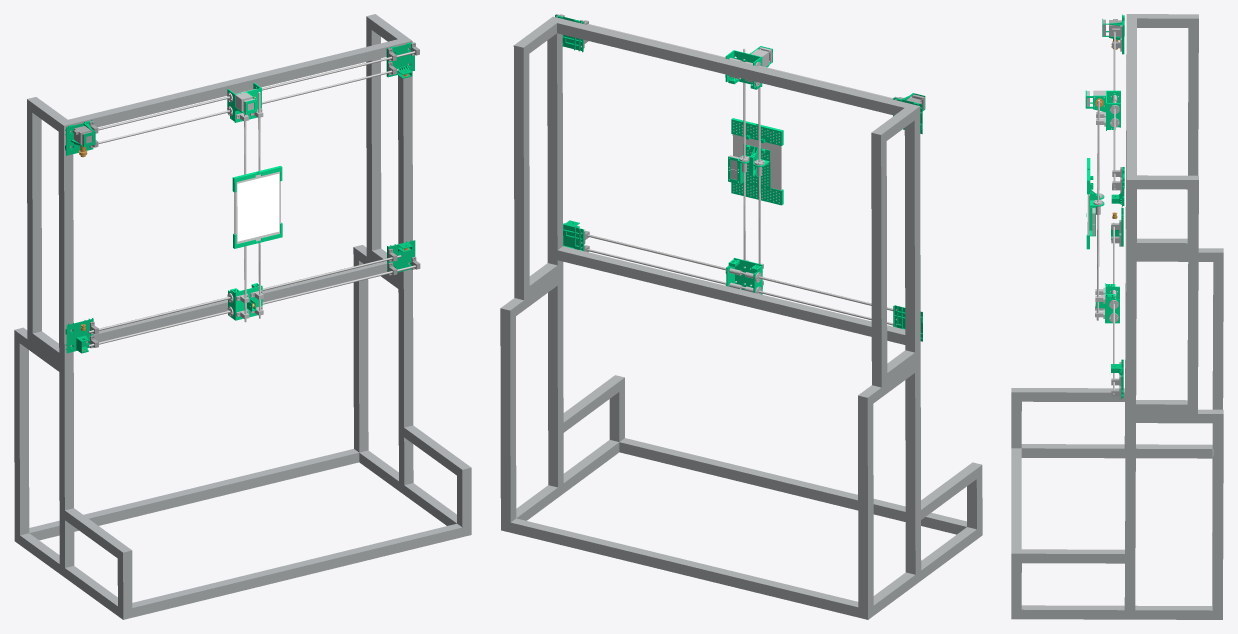
3 views of the same model, side by side, from view 1: azimuth 30°, elevation 25°; view 2: azimuth 150°, elevation 25°; view 3: azimuth 270°, elevation 25° (orthographic). The views are drawn at different scales.
Visible parts, largest first — view 1: 1_frame, 2_vertical, 4_screen, 3_ipad; view 2: 1_frame, 3_ipad, 2_vertical; view 3: 1_frame, 2_vertical, 3_ipad.
Part boxes in pixels (bbox=[...]): 1_frame: bbox=[14, 14, 471, 619]; 2_vertical: bbox=[227, 82, 263, 322]; 4_screen: bbox=[237, 173, 279, 241]; 3_ipad: bbox=[232, 166, 282, 248]; 1_frame: bbox=[500, 14, 982, 619]; 3_ipad: bbox=[728, 118, 783, 205]; 2_vertical: bbox=[725, 46, 772, 294]; 1_frame: bbox=[1011, 14, 1223, 619]; 2_vertical: bbox=[1085, 90, 1120, 323]; 3_ipad: bbox=[1086, 158, 1104, 249].
Size of the model in its own units: 152 by 188 by 82.36.
